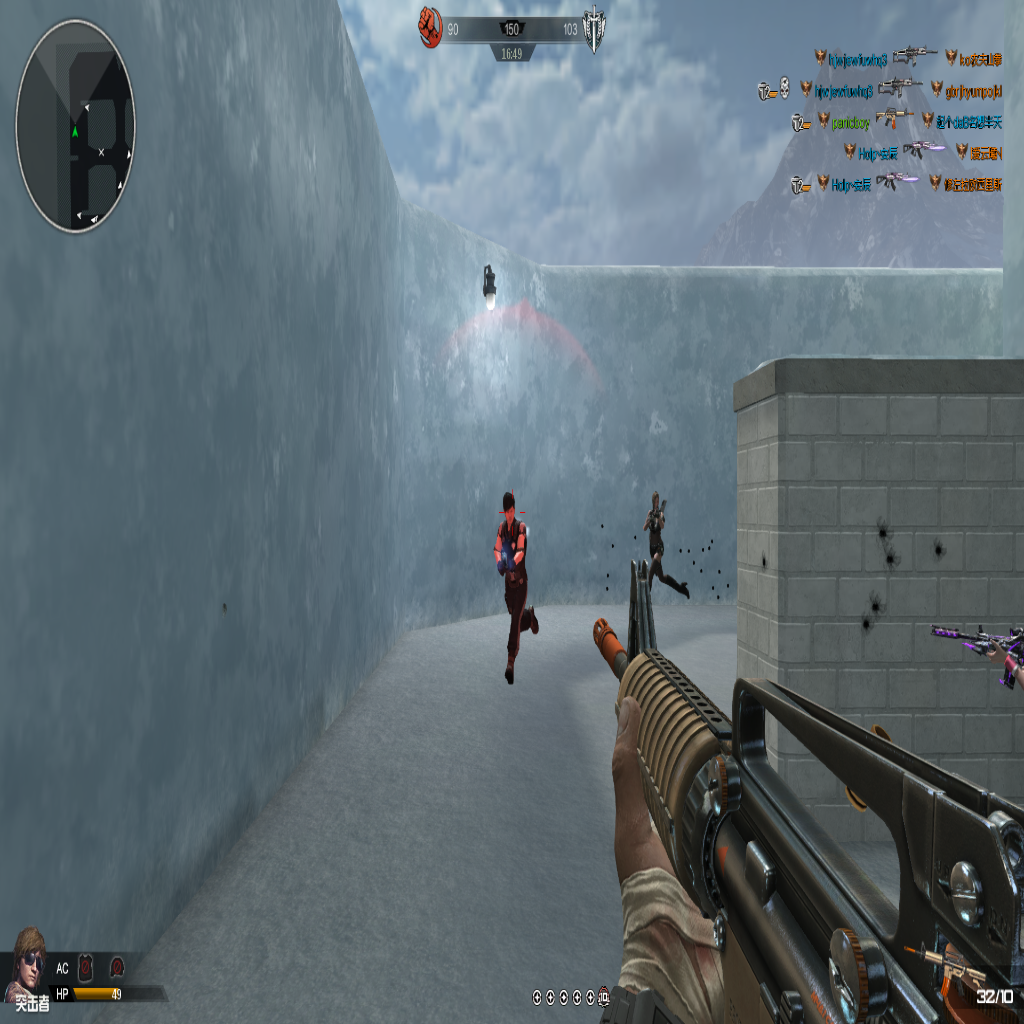ct: (496, 484, 533, 688)
